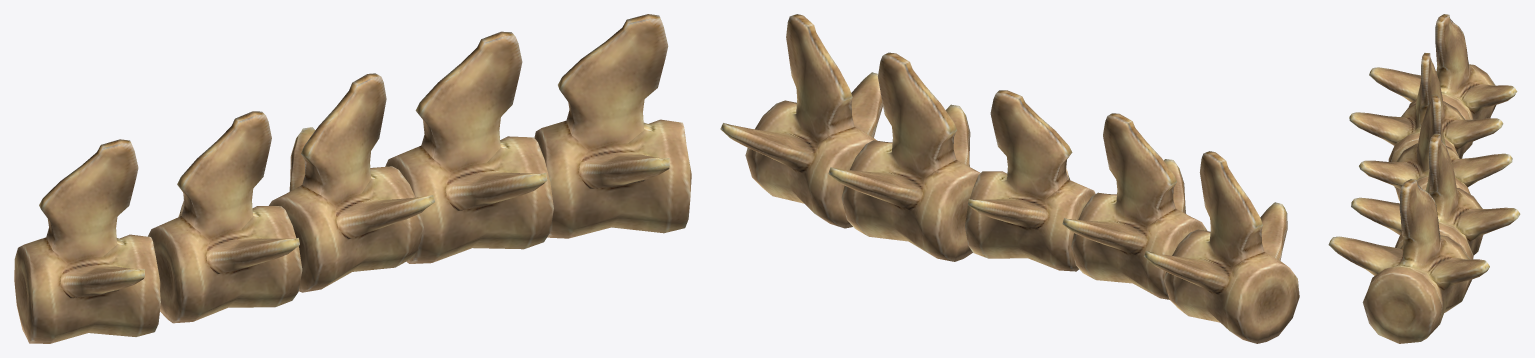
Rendered from bone_09.FBX.
3 views of the same model, side by side, from view 1: azimuth 30°, elevation 25°; view 2: azimuth 150°, elevation 25°; view 3: azimuth 270°, elevation 25° (orthographic). The views are drawn at different scales.
Visible parts, largest first — view 1: bone_020; view 2: bone_020; view 3: bone_020.
Boxes of the visible parts, box(x1,y1,x2,y2) form: bone_020: box(14, 14, 691, 343); bone_020: box(720, 14, 1299, 343); bone_020: box(1328, 14, 1520, 343).
Size of the model in its own units: 58.22 by 18.44 by 20.66.
